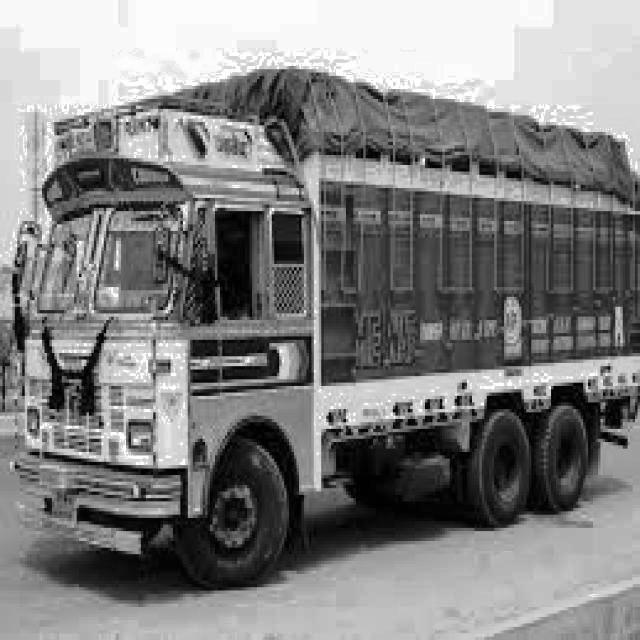HCV: (15, 79, 640, 597)
